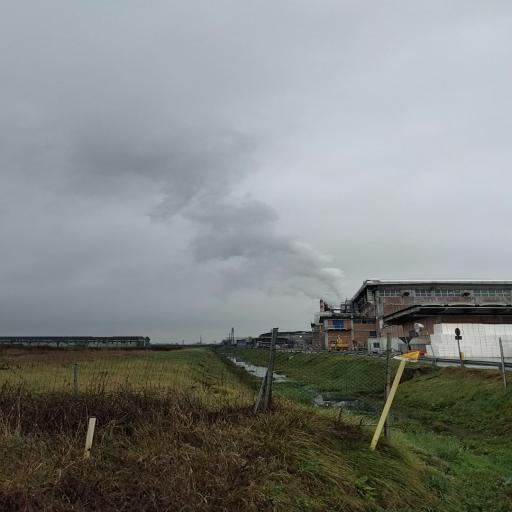leakage: (23, 92, 364, 320)
